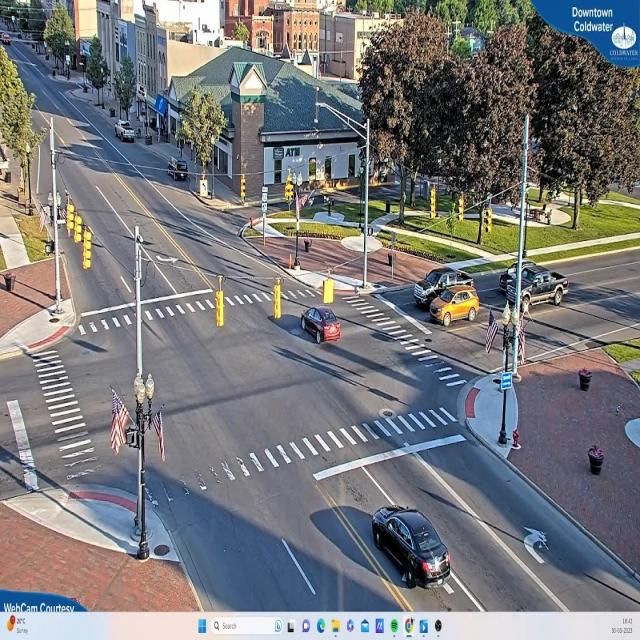car: (371, 509, 451, 594), (516, 266, 567, 311), (431, 284, 480, 326), (299, 306, 341, 347), (413, 267, 459, 303), (164, 158, 188, 180), (115, 122, 136, 143)
